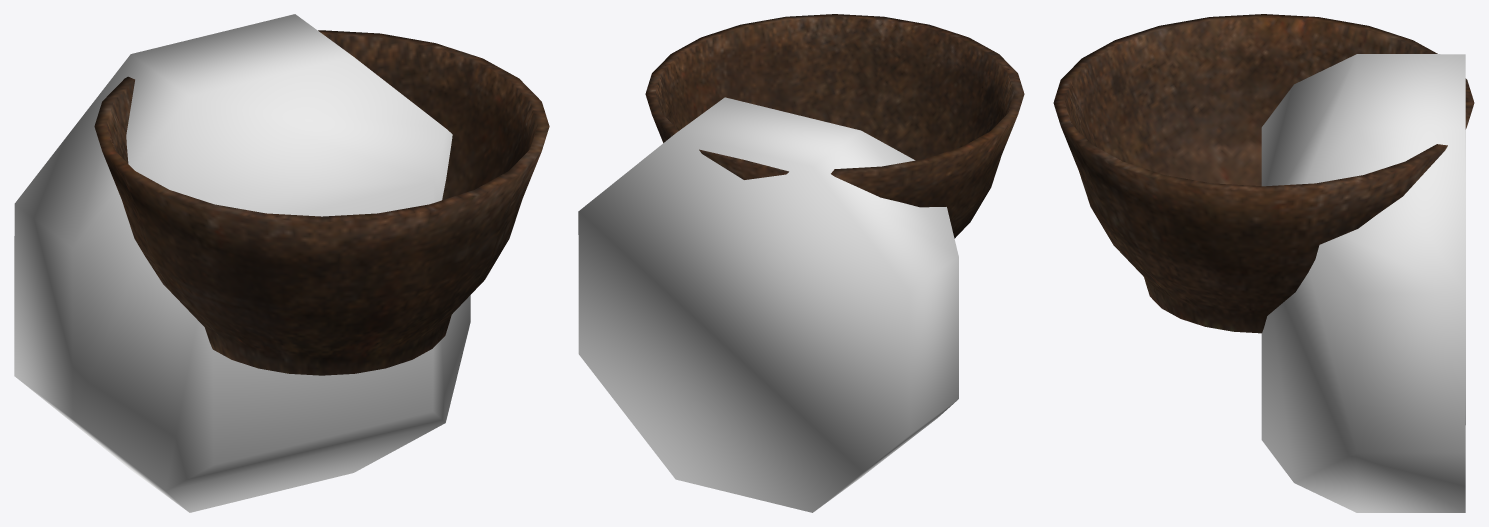
File: SM_Ceramics_D.fbx
3 renders of one model, left to right at view 1: azimuth 30°, elevation 25°; view 2: azimuth 150°, elevation 25°; view 3: azimuth 270°, elevation 25°, orthographic. The views are drawn at different scales.
Parts seen in each view (by area): view 1: SM_Ceramics_D_ConvexHulls, SM_Ceramics_D; view 2: SM_Ceramics_D_ConvexHulls, SM_Ceramics_D; view 3: SM_Ceramics_D_ConvexHulls, SM_Ceramics_D.
Boxes of the visible parts, left/top/right/bottom form: SM_Ceramics_D_ConvexHulls: left=14, top=14, right=470, bottom=512; SM_Ceramics_D: left=94, top=30, right=549, bottom=375; SM_Ceramics_D_ConvexHulls: left=578, top=97, right=958, bottom=512; SM_Ceramics_D: left=645, top=14, right=1024, bottom=238; SM_Ceramics_D_ConvexHulls: left=1261, top=54, right=1465, bottom=512; SM_Ceramics_D: left=1053, top=14, right=1474, bottom=333.
Bounding box in the file's own units: 0.2712 × 0.2711 × 0.2687.
